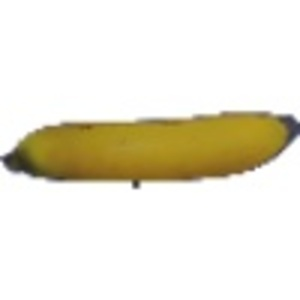banana: (1, 108, 300, 182)
